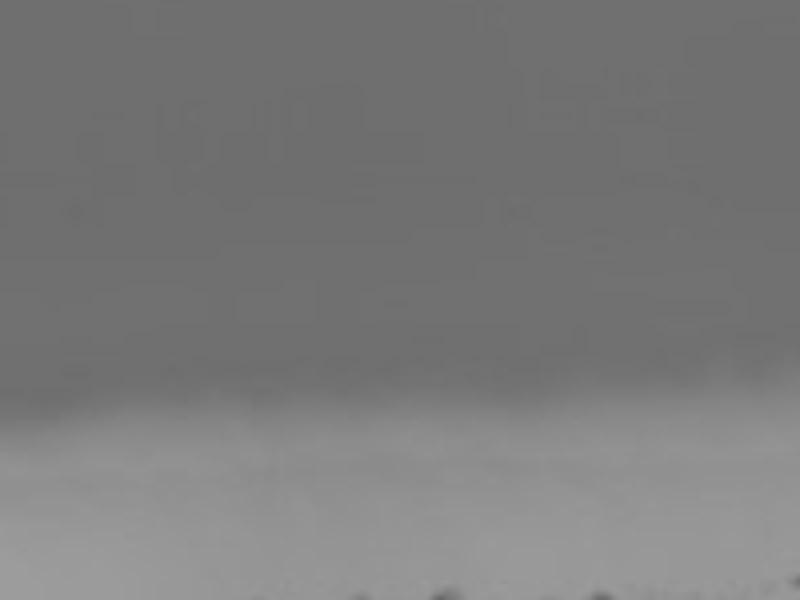defect: (432, 583, 459, 599), (585, 586, 617, 599)
